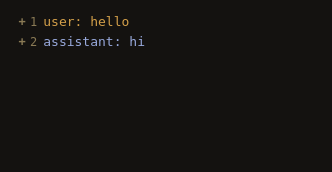
Test case: DetailTocTree › numbers rows hierarchically (top-level 1/2, children 1.1, 1.2)
Expected: the text "1" is shown, [30, 15, 37, 30]
Expected: the text "2" is shown, [30, 35, 37, 50]
Click the button named "expand" at (22, 42), box [14, 35, 30, 50]
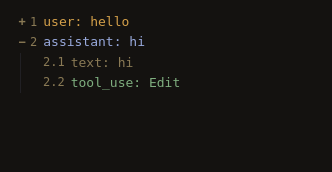
Expected: the text "2.1" is shown, [43, 55, 65, 70]
Expected: the text "2.2" is shown, [43, 75, 65, 90]
